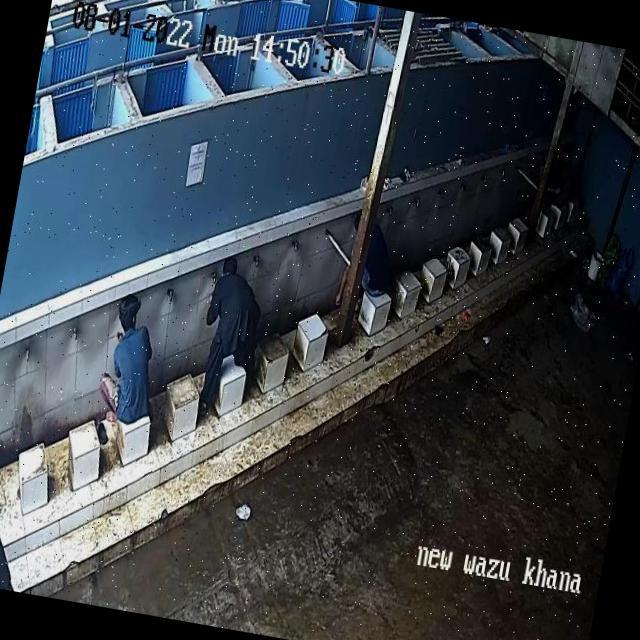person: (92, 294, 166, 426), (200, 254, 275, 384), (356, 219, 396, 297)
